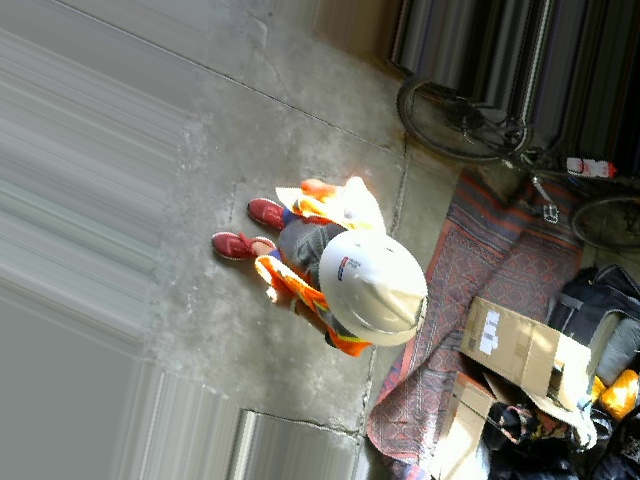one: (414, 295, 428, 335)
